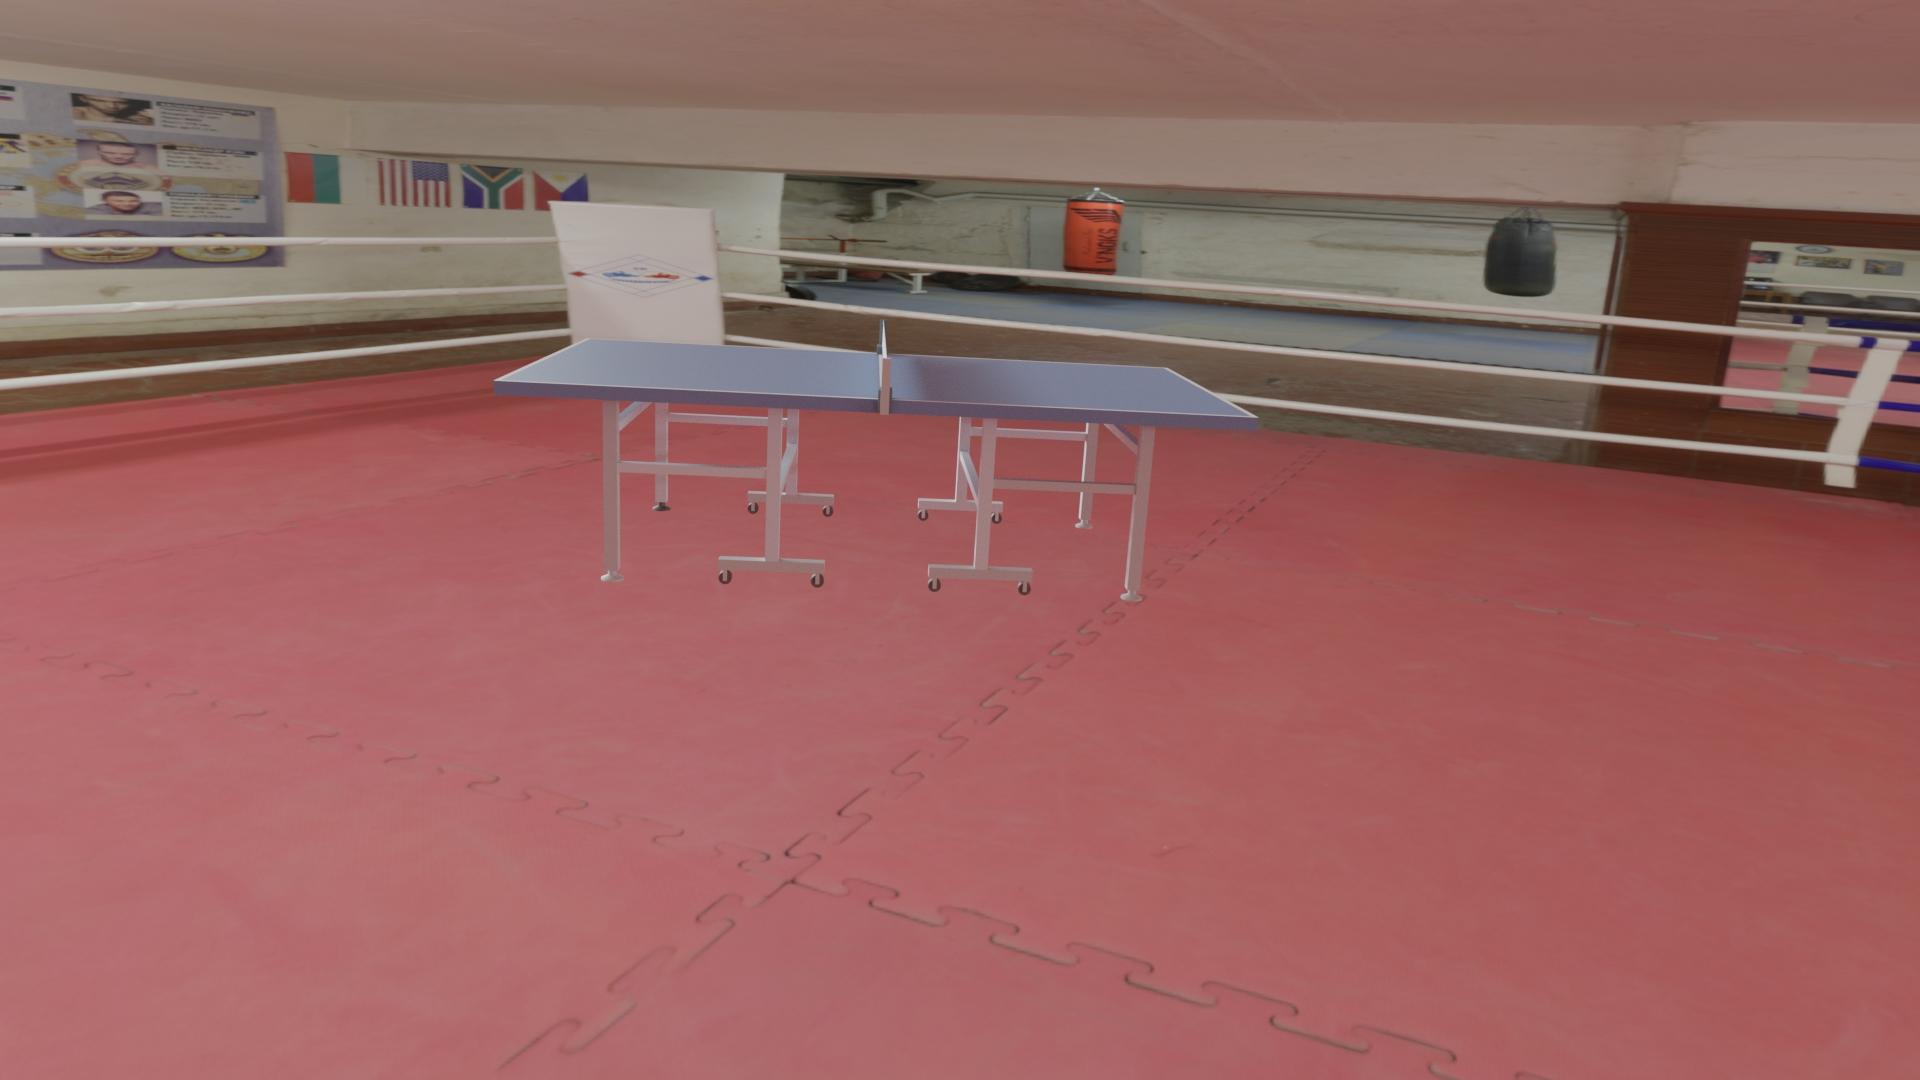table: (501, 339, 1251, 417)
